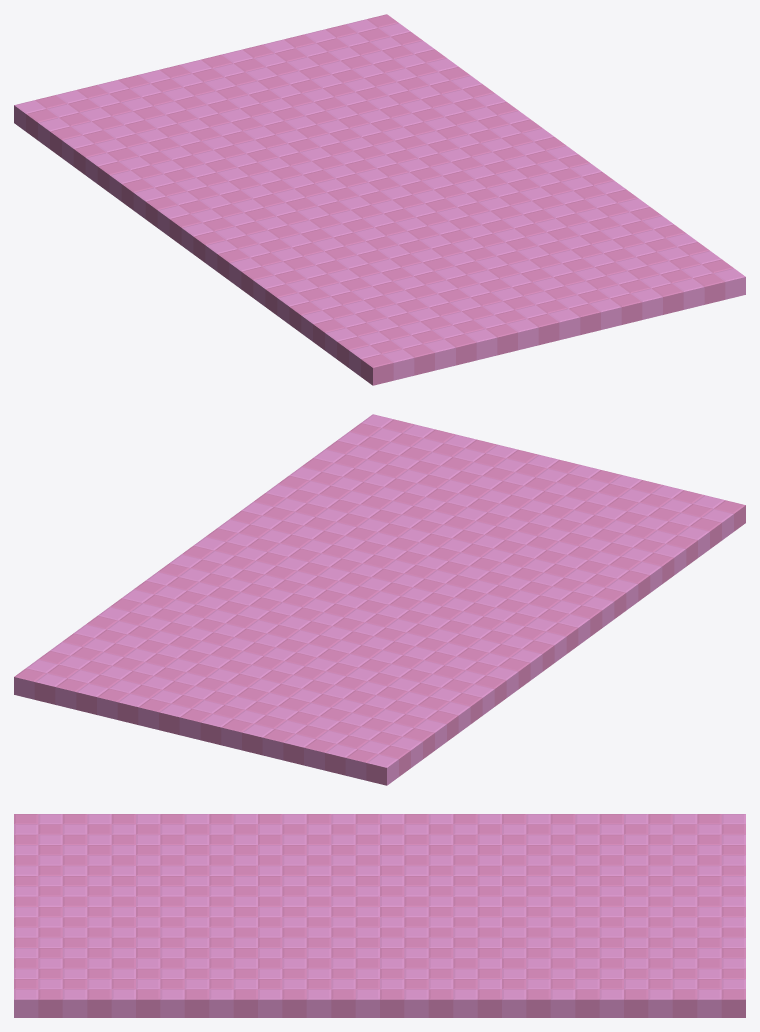
File: Platform_Floor.fbx
3 views of the same model, one above another, from view 1: azimuth 30°, elevation 25°; view 2: azimuth 150°, elevation 25°; view 3: azimuth 270°, elevation 25° (orthographic).
Parts seen in each view (by area): view 1: Floor_1; view 2: Floor_1; view 3: Floor_1.
Part boxes in pixels (x1,y1,x2,y2): Floor_1: [14, 14, 745, 385]; Floor_1: [14, 414, 745, 785]; Floor_1: [14, 814, 745, 1017].
Size of the model in its own units: 1547 by 71.89 by 2579.
